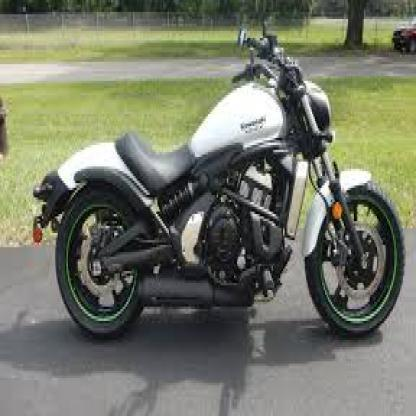Motorcycle: (31, 14, 408, 344)
